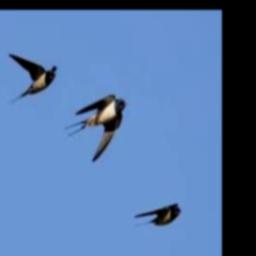Swallow: (64, 94, 126, 161), (8, 54, 56, 105), (134, 203, 180, 227)
